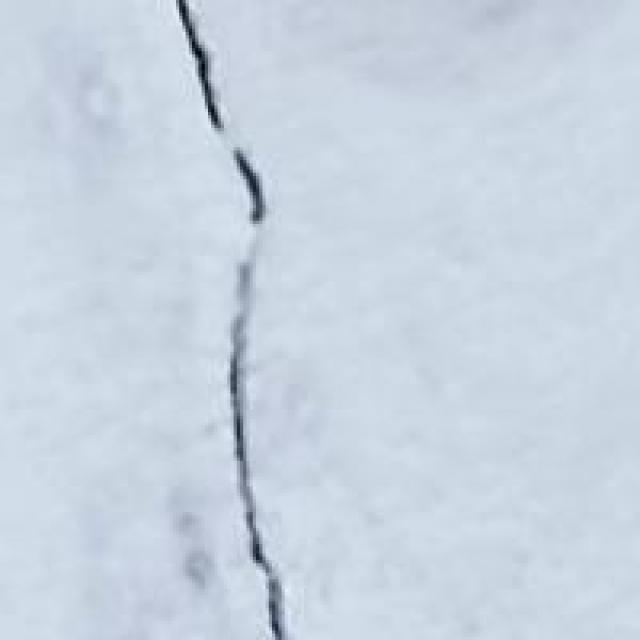crack: (141, 0, 339, 637)
